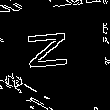N_E: (30, 32, 80, 78)
